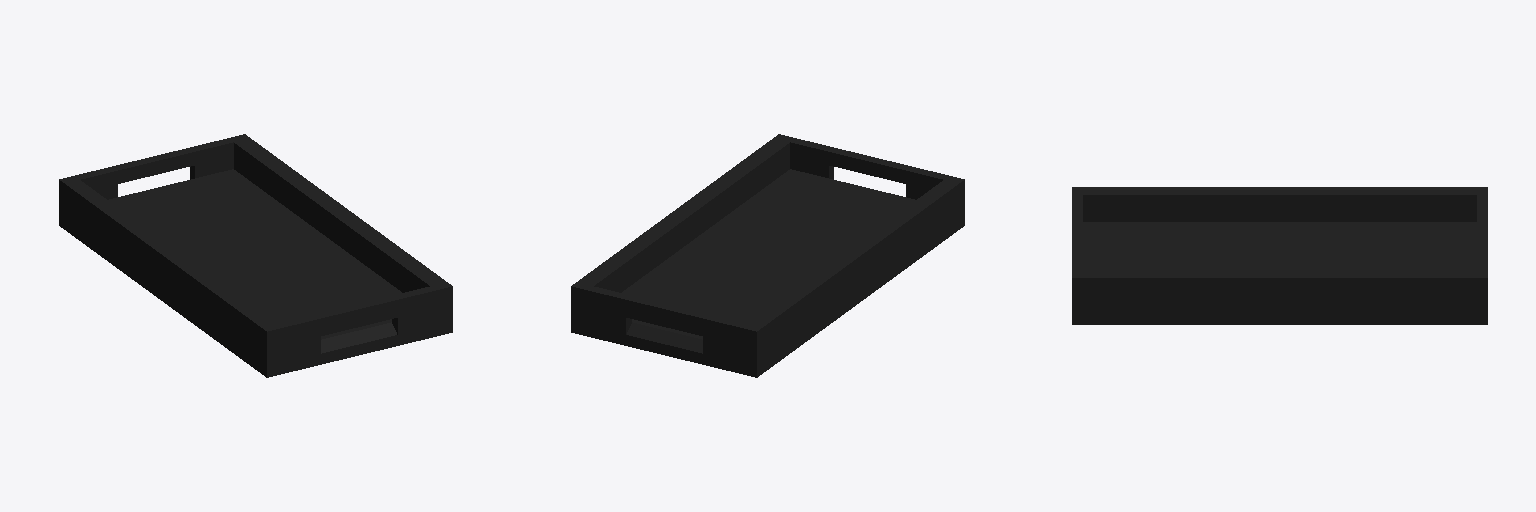
The model's file is tabletop.obj.
3 renders of one model, left to right at view 1: azimuth 30°, elevation 25°; view 2: azimuth 150°, elevation 25°; view 3: azimuth 270°, elevation 25°, orthographic.
Parts seen in each view (by area): view 1: Cube.002; view 2: Cube.002; view 3: Cube.002.
Part boxes in pixels (x1,y1,x2,y2): Cube.002: (59,134,452,377); Cube.002: (571,134,964,377); Cube.002: (1072,187,1487,324).
Size of the model in its own units: 2 by 0.475 by 3.87.